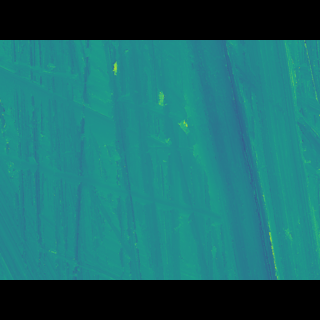Loch: (186, 69, 319, 250)
